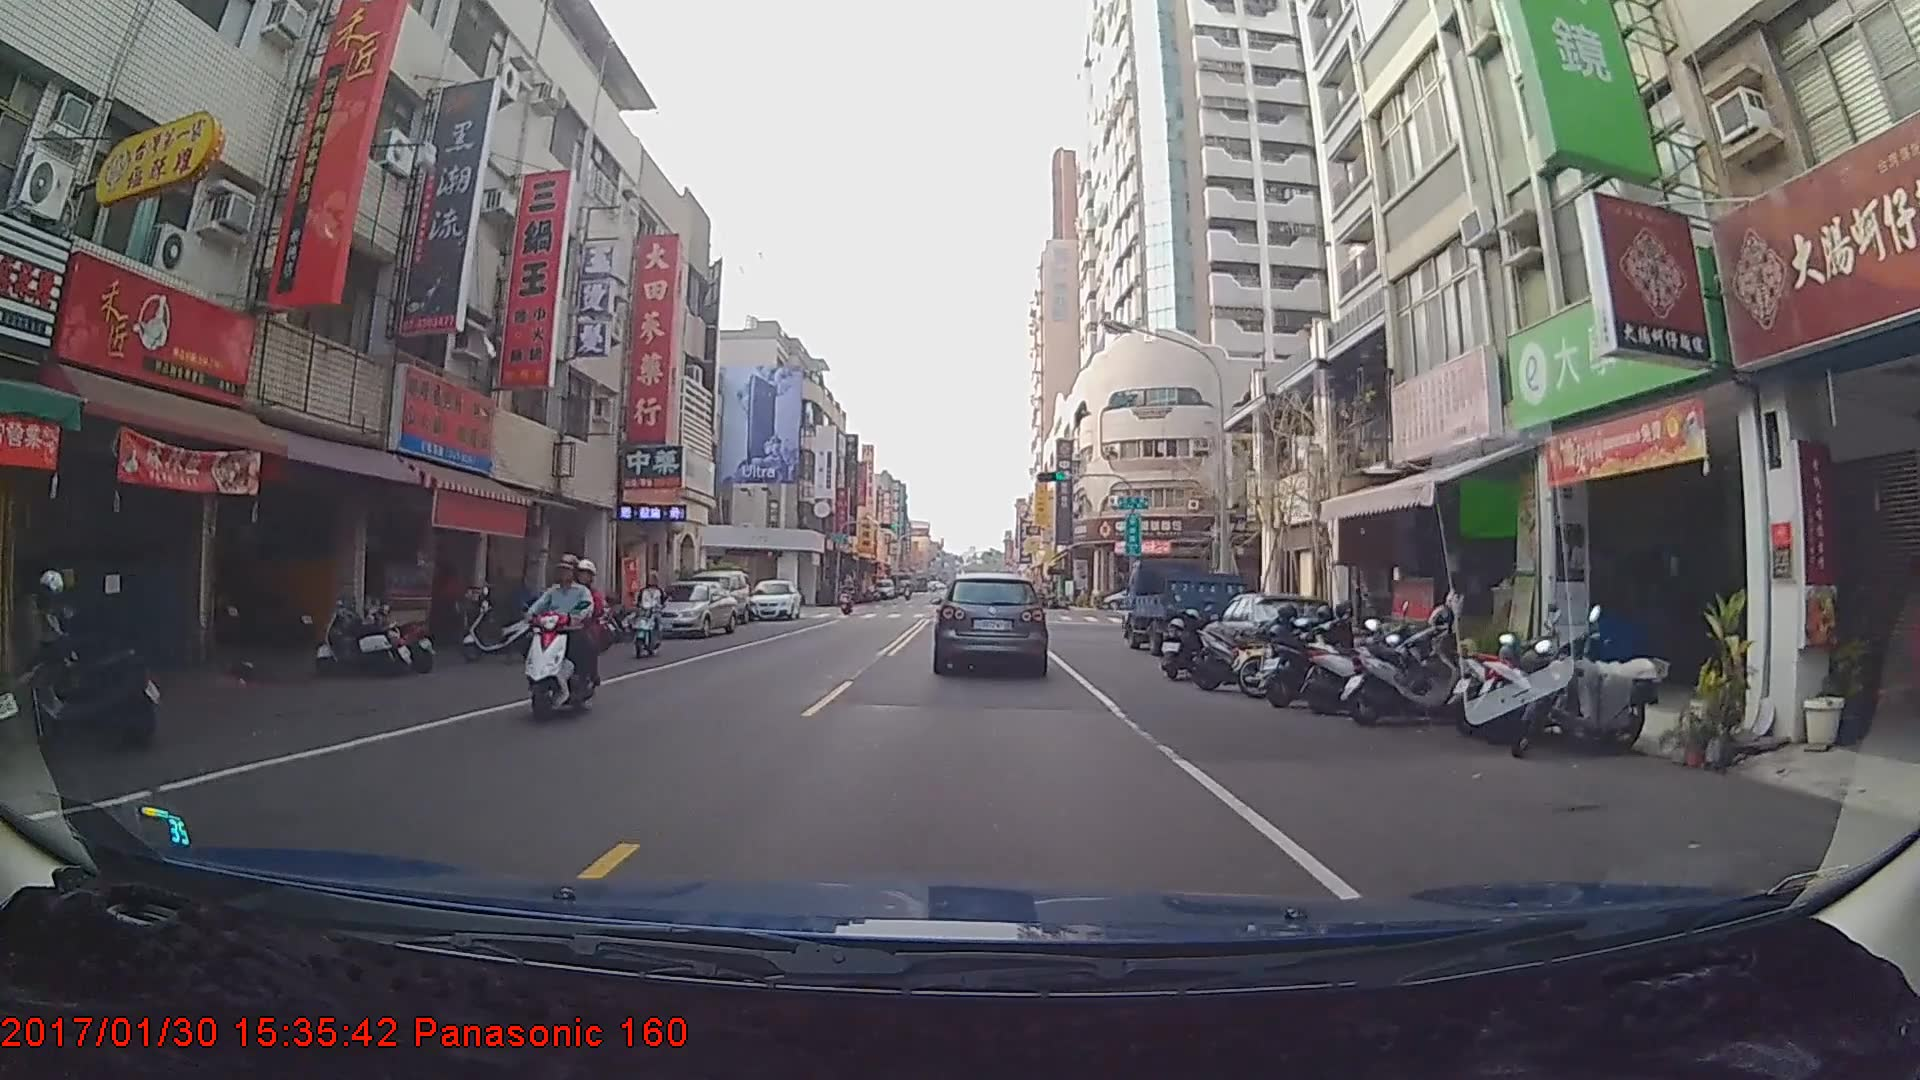rider: (518, 559, 605, 727), (636, 576, 669, 666), (838, 577, 858, 617)
vehicle: (1121, 558, 1250, 653), (935, 568, 1046, 674), (638, 582, 739, 639), (681, 568, 751, 627), (747, 576, 800, 621)
